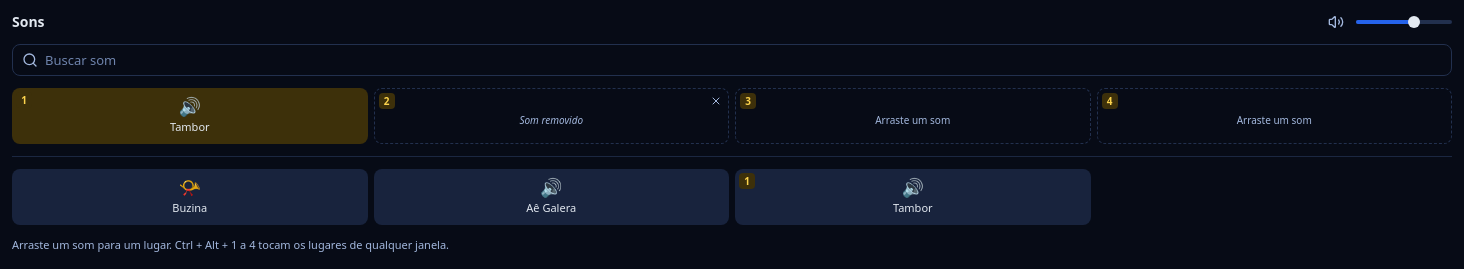
Test: a grade de sons › clicar toca, e a busca filtra
This screenshot has width=1464, height=269.
Click the button "📯 Buzina" at (190, 197), box 12,169 -> 368,225
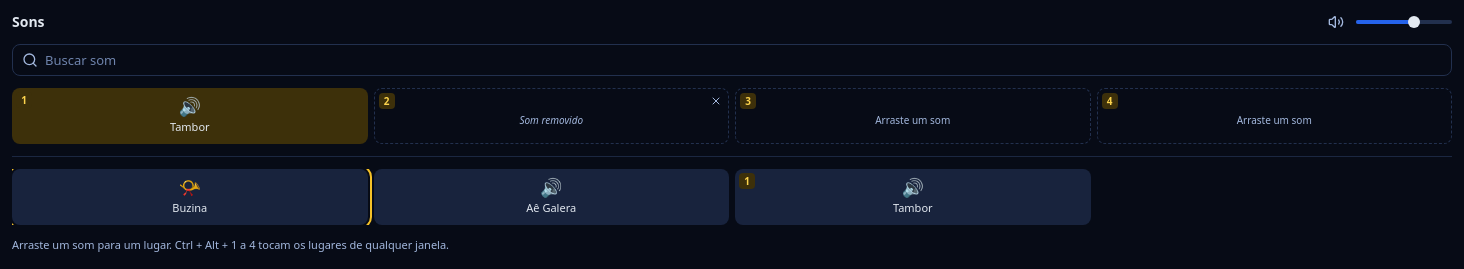
Type "xyz" into the field labelled "Buscar som" at (732, 60), box 12,44 -> 1452,76
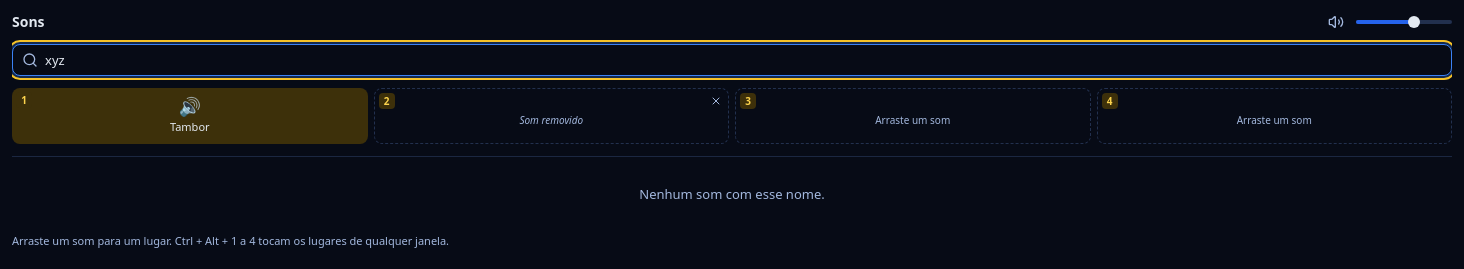
Expected: the text "Nenhum som com esse nome." is shown, 639,185 -> 825,203
